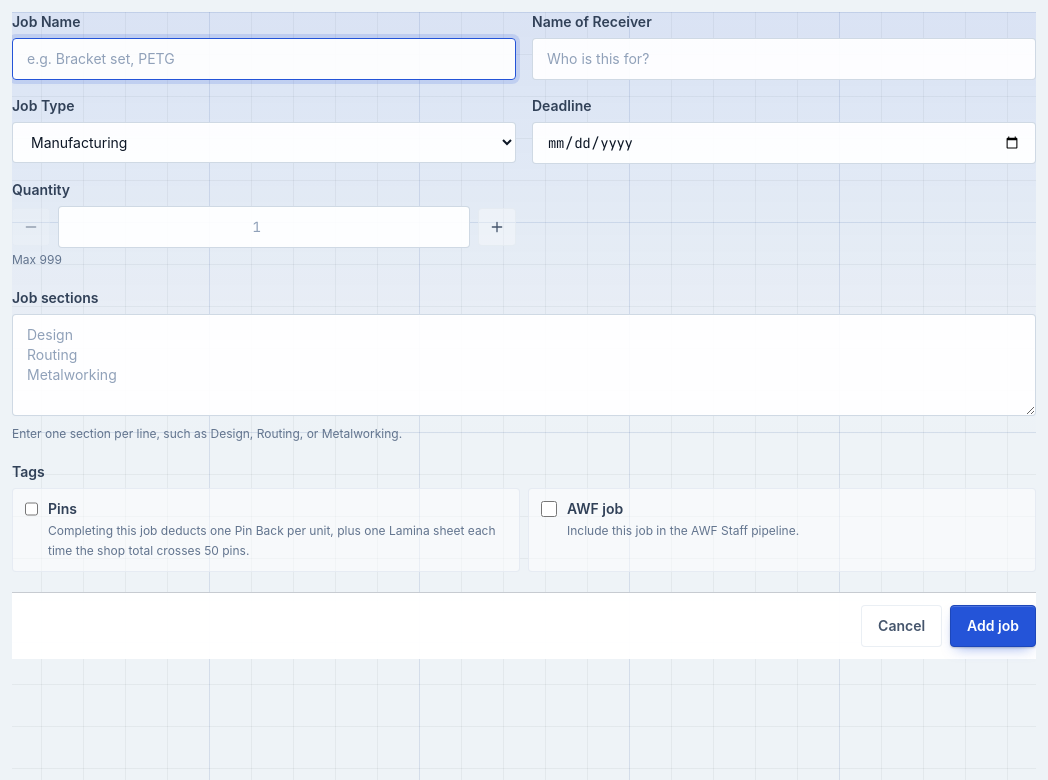
Test: JobForm quantity behavior › disables increase at the maximum and clamps rapid increments
Select "Design" in the dropdown labelled "Job Type" at (264, 142), box [12, 122, 516, 163]
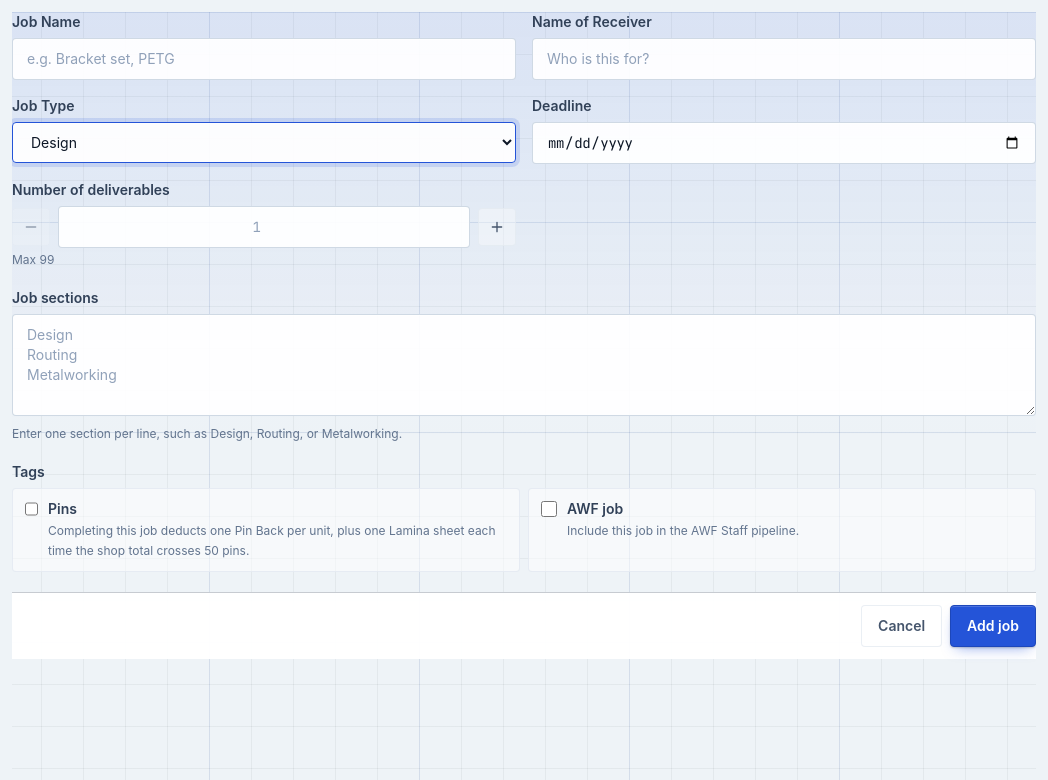
Type "97" into the number field labelled "Number of deliverables".
click(264, 227); type("97")  # box [58, 206, 470, 248]
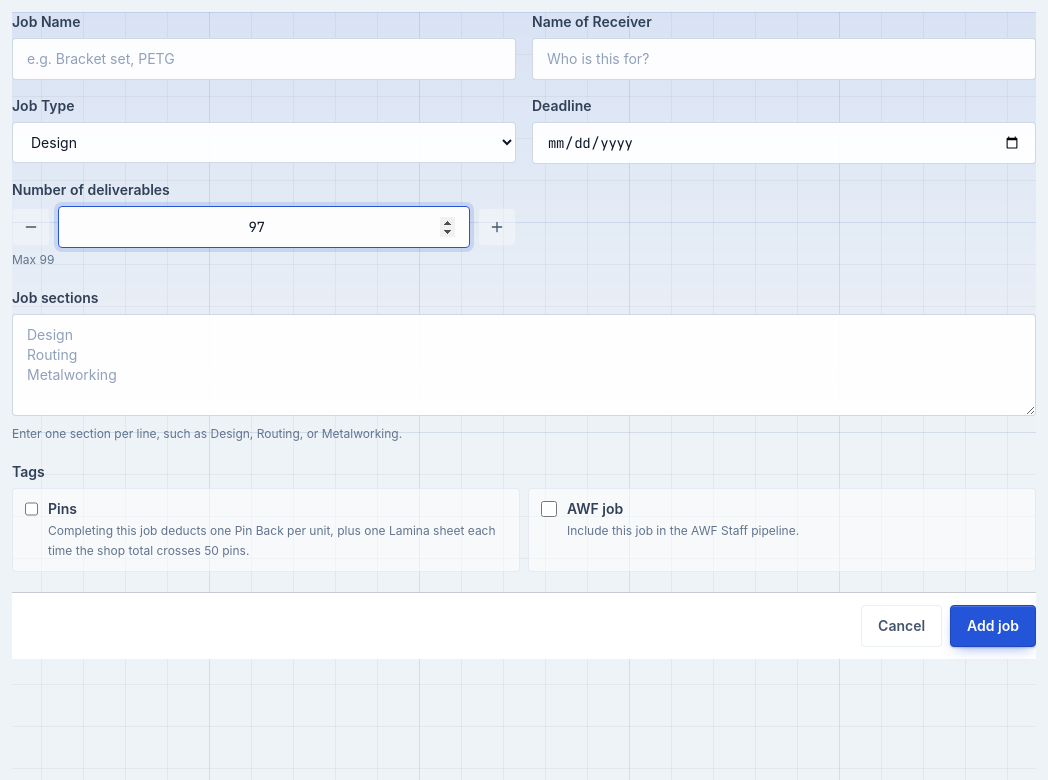
Click the button named "Increase number of deliverables".
click(497, 227)  # box [478, 208, 516, 246]
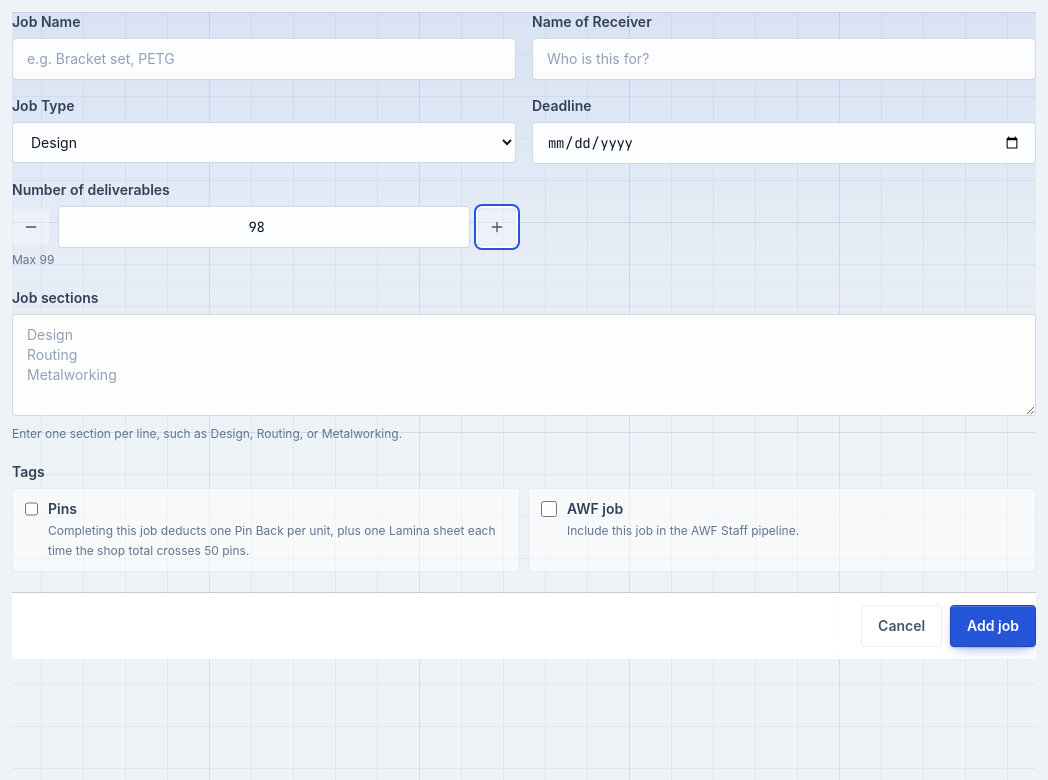
Click the button named "Increase number of deliverables".
click(497, 227)  # box [478, 208, 516, 246]
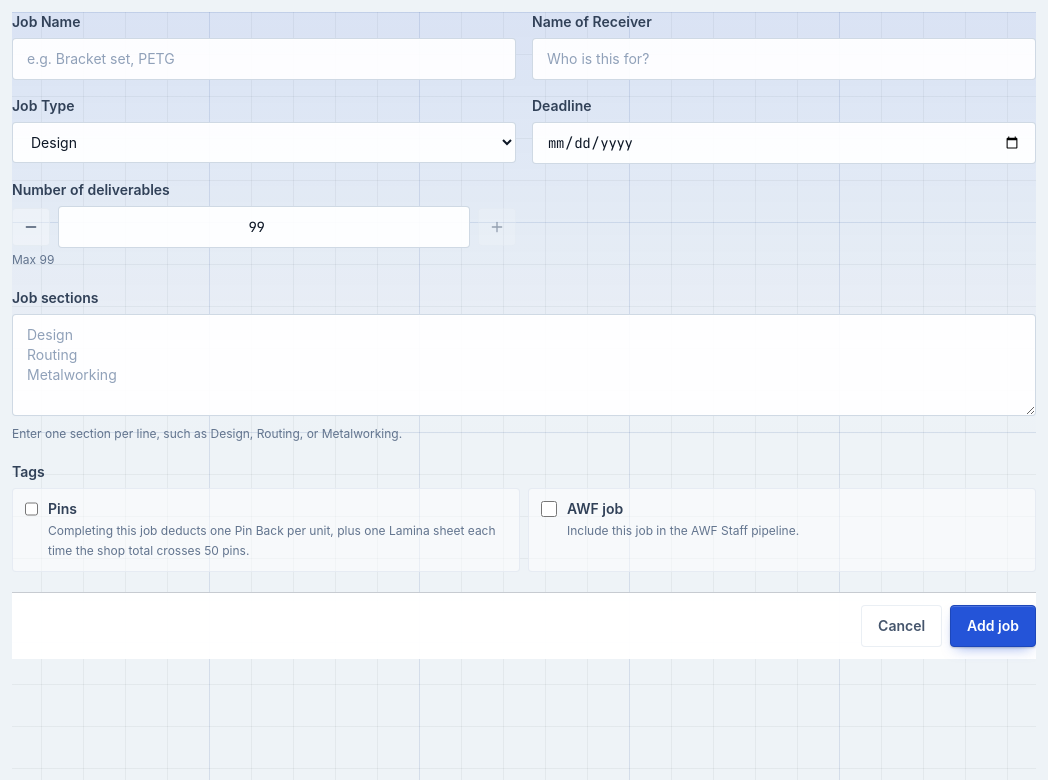
Check: the number field labelled "Number of deliverables" holds "99", box [58, 206, 470, 248]
Check: the button named "Increase number of deliverables" is disabled, box [478, 208, 516, 246]
